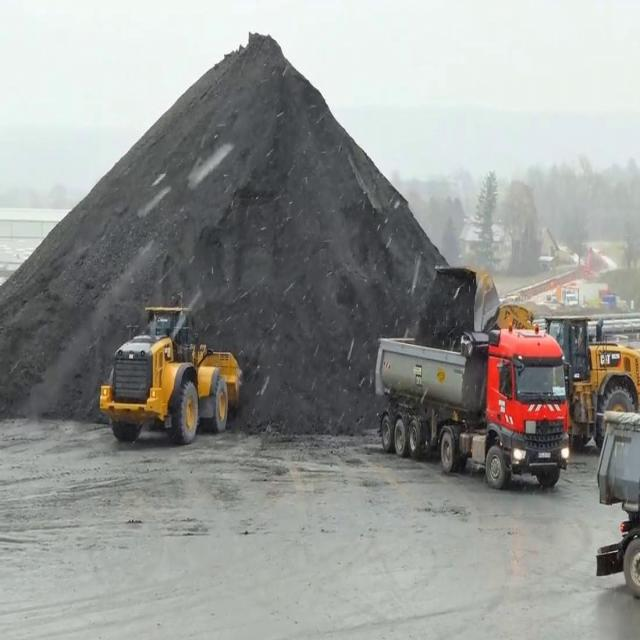Dump Truck: (373, 319, 571, 490), (593, 402, 639, 607)
Loader: (431, 262, 640, 449), (99, 293, 244, 443)
